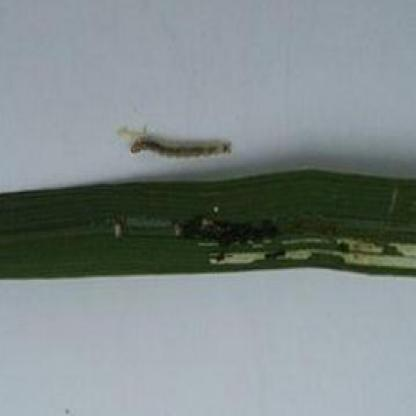leaf-folder: (126, 128, 236, 172)
